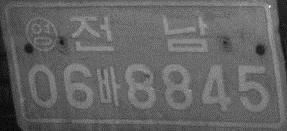0: (27, 63, 58, 109)
4: (199, 64, 231, 112)
5: (237, 64, 270, 114)
6: (62, 62, 95, 110)
8: (160, 62, 193, 111), (124, 62, 157, 110)
바: (95, 66, 120, 107)
영: (24, 16, 58, 53)
전남_D: (68, 15, 210, 53)
